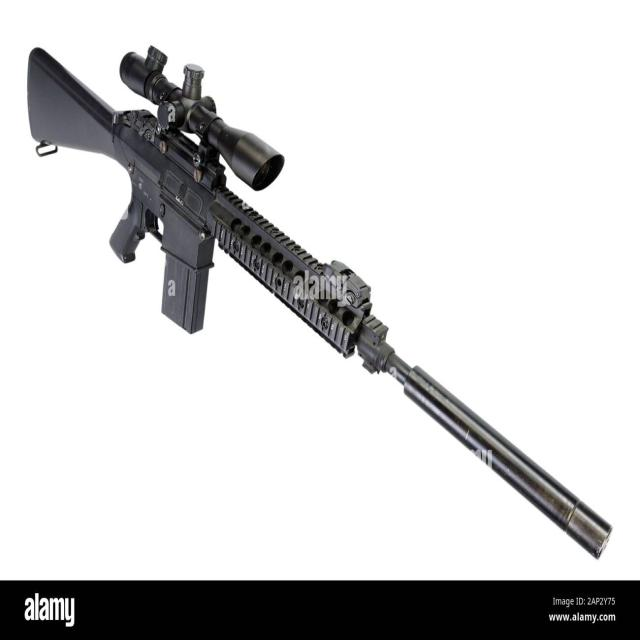Rifle: (30, 48, 613, 559)
